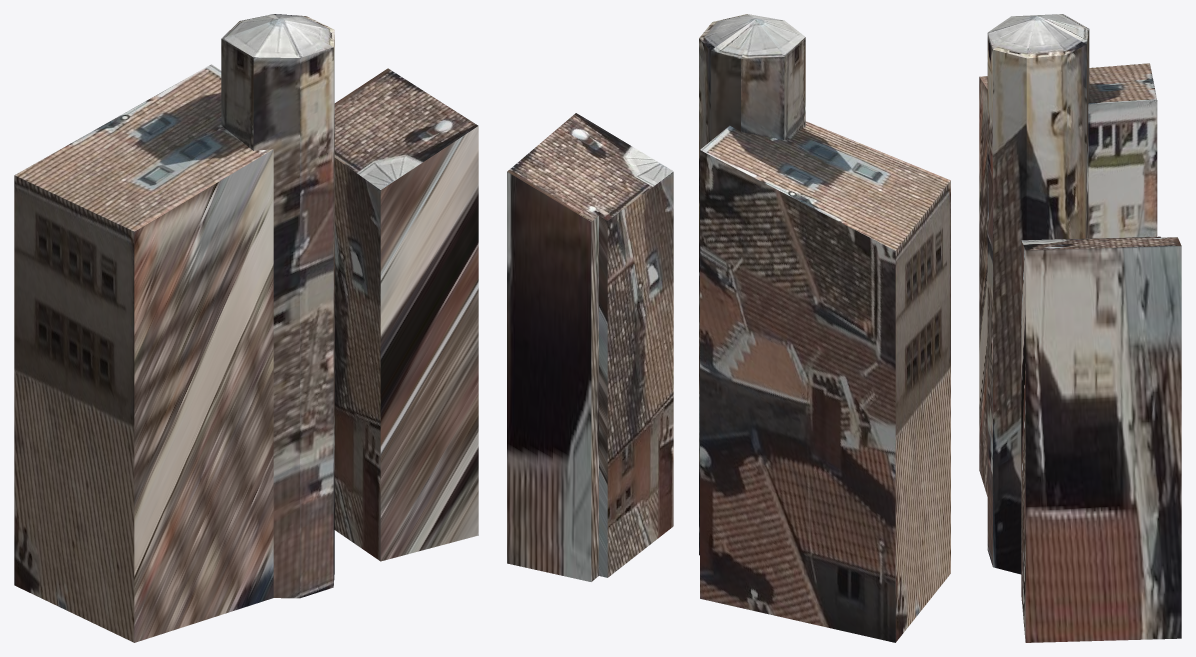
The picture shows the model from 3 angles, left to right: view 1: azimuth 30°, elevation 25°; view 2: azimuth 150°, elevation 25°; view 3: azimuth 270°, elevation 25°; orthographic projection. The views are drawn at different scales.
Visible parts, largest first — view 1: Z_UP; view 2: Z_UP; view 3: Z_UP.
Boxes of the visible parts, left/top/right/bottom form: Z_UP: left=14, top=14, right=478, bottom=642; Z_UP: left=507, top=14, right=950, bottom=642; Z_UP: left=979, top=14, right=1181, bottom=642.
Size of the model in its own units: 17.93 by 24.01 by 8.2.
Materials: 2 (1 with a texture image).
